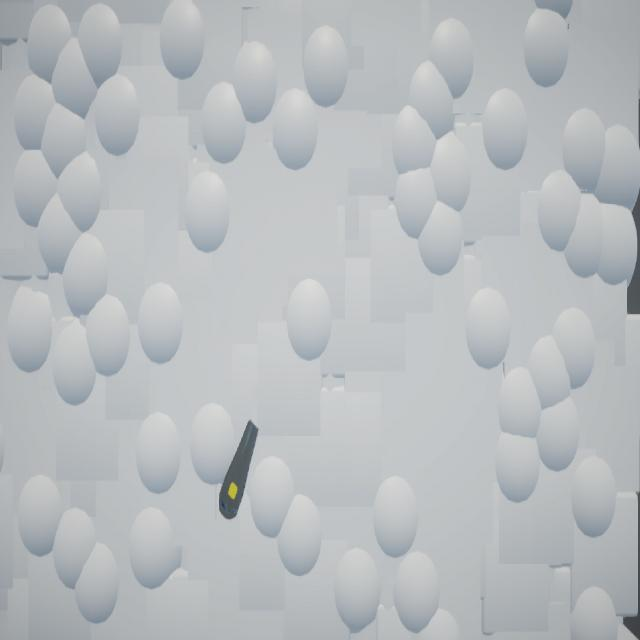handle_knife: (220, 420, 260, 521)
